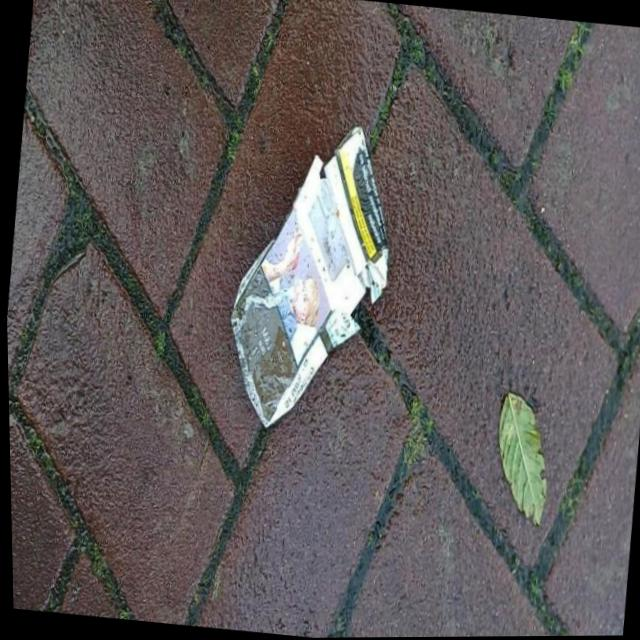Paper: (211, 113, 404, 445)
